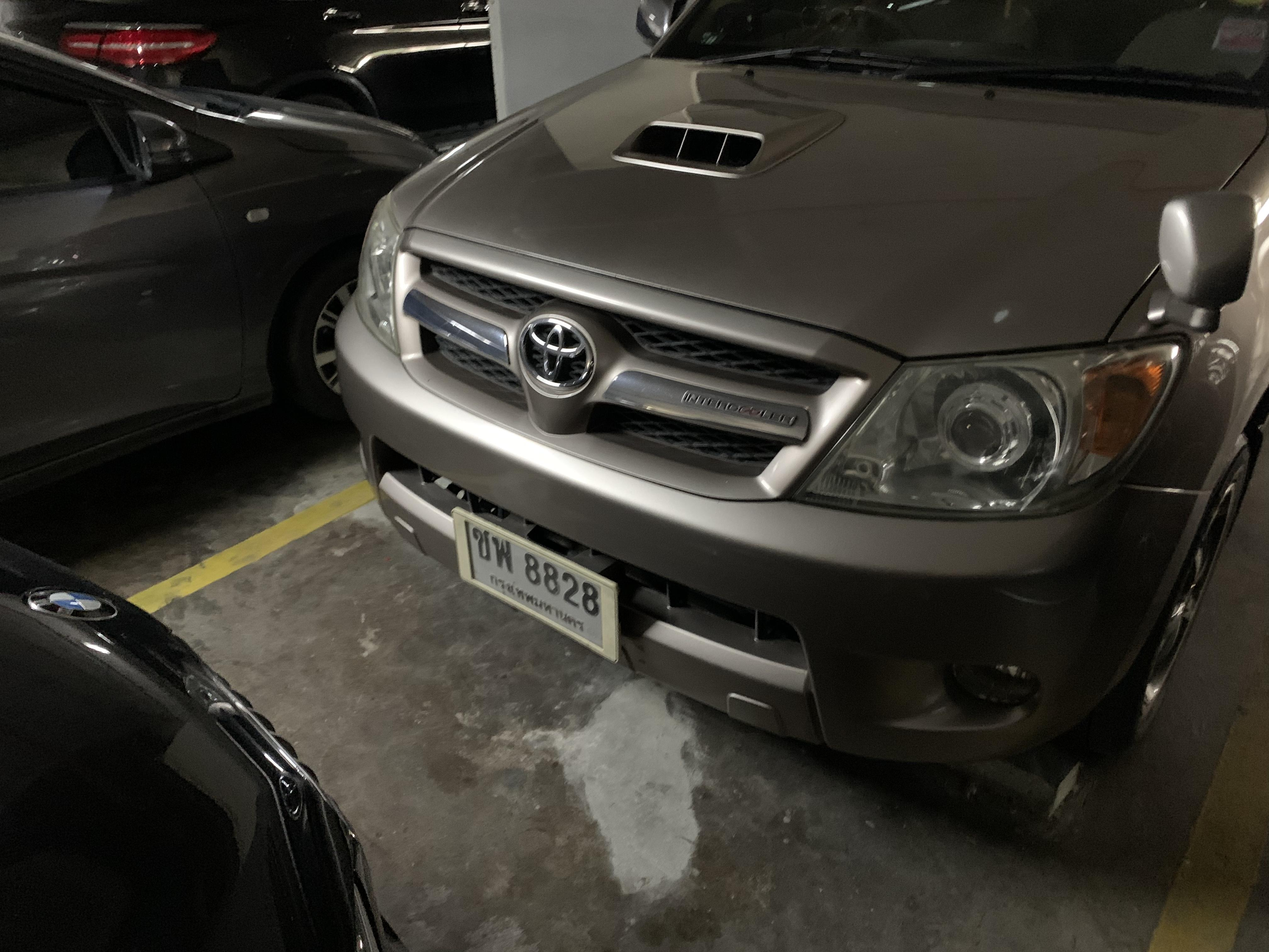license-plate: (452, 505, 622, 669)
